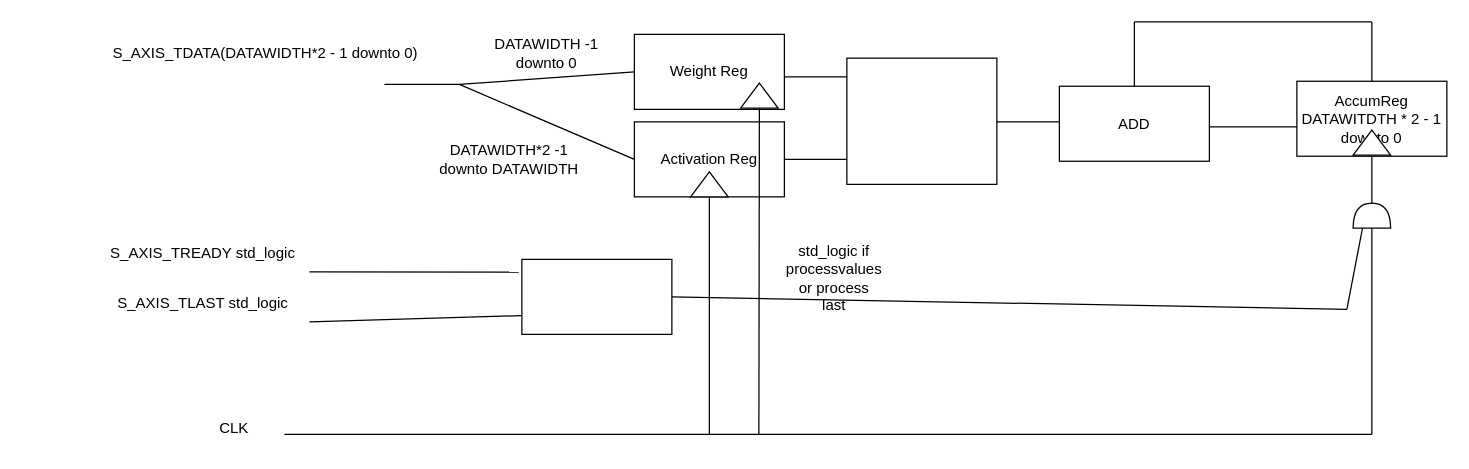
Image size: 1469x469. Some labels were removed from this diagram. The shapes that lost their labels are listed below. From the top down, each one's centre as x and y in pixels, then its label:
At (x=921, y=120): "DATAWIDTH * DATAWIDTH MUL".
At (x=596, y=296): "State Machine".
